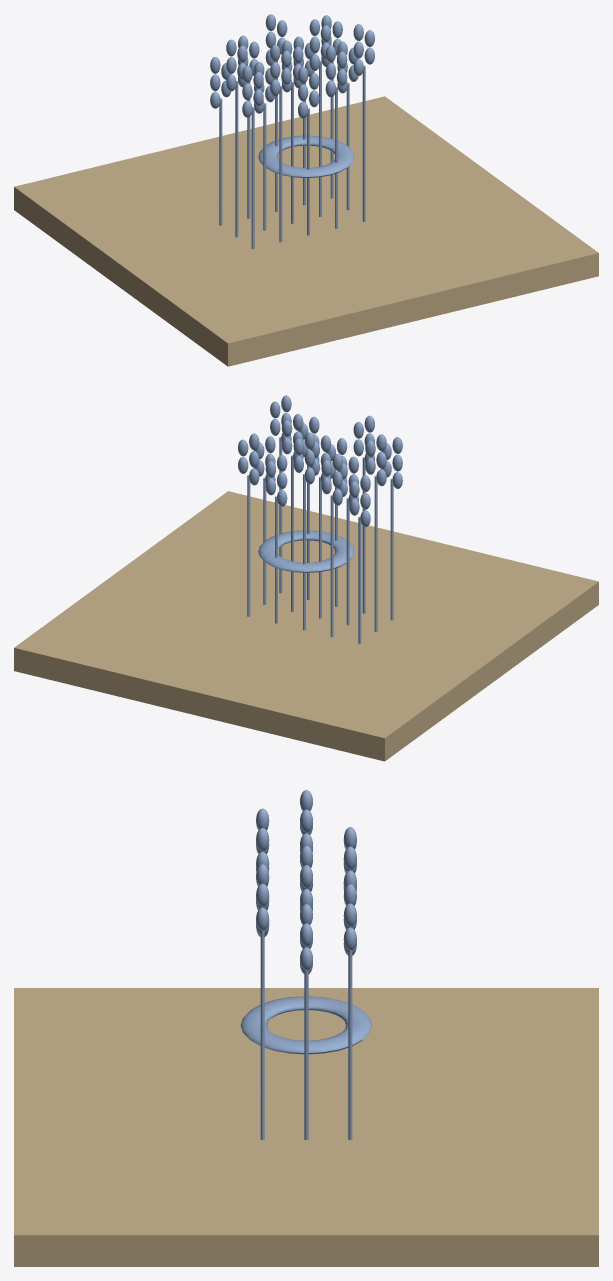
The model's file is feixes.glb.
The picture shows the model from 3 angles, top to bottom: view 1: azimuth 30°, elevation 25°; view 2: azimuth 150°, elevation 25°; view 3: azimuth 270°, elevation 25°; orthographic projection. The views are drawn at different scales.
Parts seen in each view (by area): view 1: Base ilustrativa, Feixe atado, Haste.005, Haste.011, Haste.014, Haste.010, Haste, Haste.006; view 2: Base ilustrativa, Feixe atado, Haste.005, Haste.001, Haste.010, Haste.004, Haste, Haste.006; view 3: Base ilustrativa, Feixe atado, Haste.014, Haste.004, Haste.009.
Boxes of the visible parts, bbox=[...] form: Base ilustrativa: bbox=[14, 96, 598, 366]; Feixe atado: bbox=[258, 135, 354, 177]; Haste.005: bbox=[235, 81, 238, 237]; Haste.011: bbox=[279, 86, 282, 242]; Haste.014: bbox=[362, 65, 365, 221]; Haste.010: bbox=[251, 107, 254, 249]; Haste: bbox=[219, 98, 222, 225]; Haste.006: bbox=[263, 103, 266, 230]; Base ilustrativa: bbox=[14, 491, 598, 761]; Feixe atado: bbox=[258, 530, 354, 572]; Haste.005: bbox=[374, 475, 377, 632]; Haste.001: bbox=[330, 495, 333, 637]; Haste.010: bbox=[390, 478, 393, 620]; Haste.004: bbox=[247, 475, 250, 616]; Haste: bbox=[358, 516, 361, 643]; Haste.006: bbox=[346, 498, 349, 625]; Base ilustrativa: bbox=[14, 988, 598, 1266]; Feixe atado: bbox=[240, 996, 372, 1054]; Haste.014: bbox=[260, 930, 264, 1140]; Haste.004: bbox=[348, 950, 352, 1140]; Haste.009: bbox=[304, 970, 308, 1140].
Size of the model in its own units: 4 by 2.29 by 4.
Materials: 3 (2 with a texture image).
